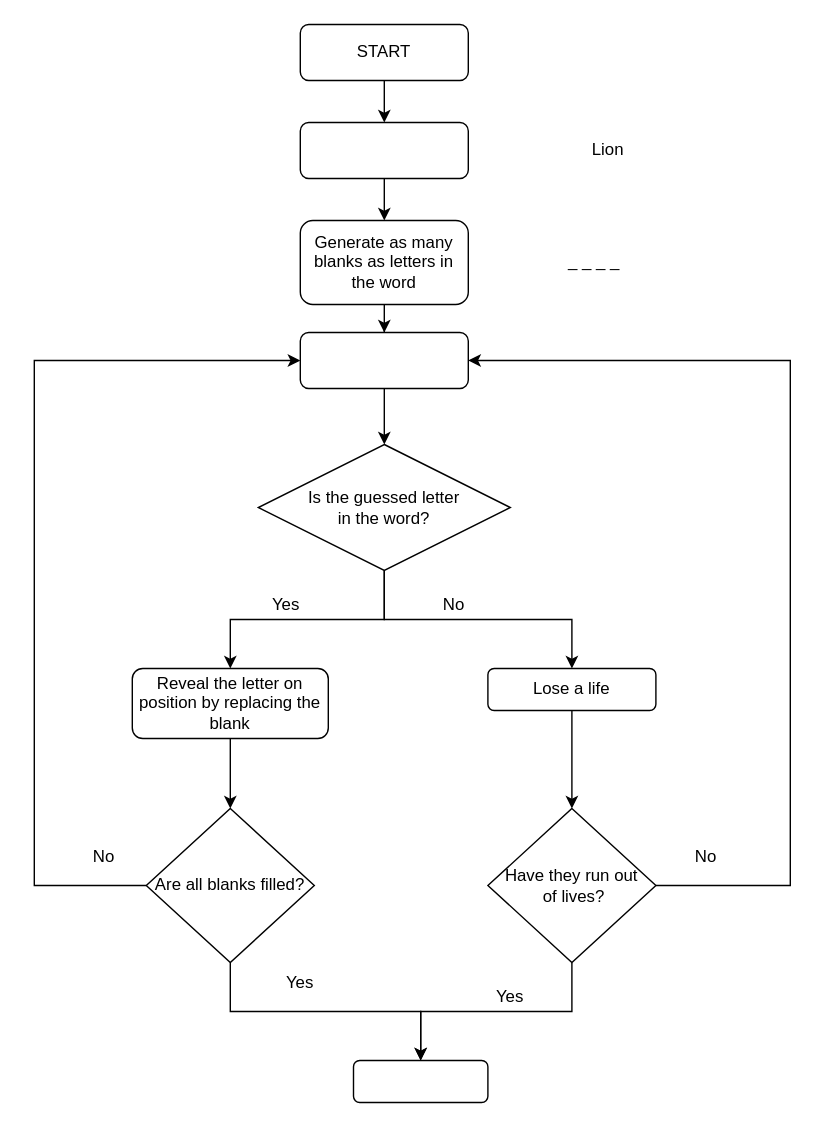
The diagram is 826 pixels wide and 1127 high, and some of its shapes have lost their labels. Each missing label, with the centre of its shape:
Ask the user to guess a letter: (x=383, y=359)
Game over: (x=420, y=1080)
Generate a random word: (x=383, y=149)
